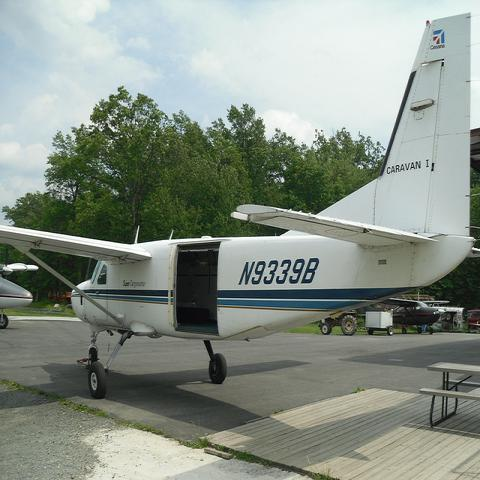car: (466, 310, 480, 335)
